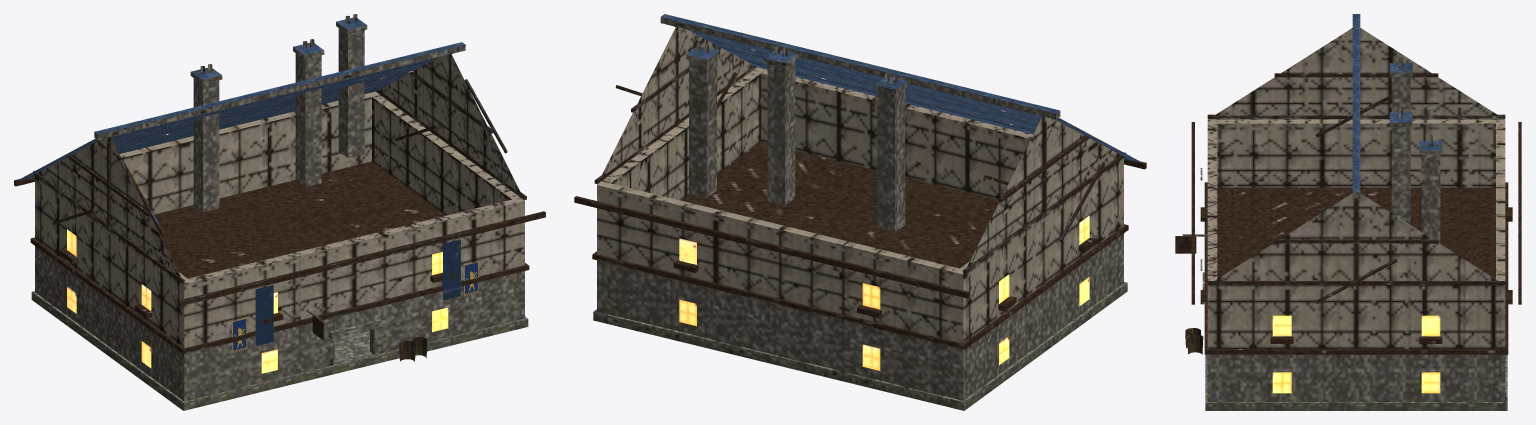
File: bld_inn_card_lod2.glb
The picture shows the model from 3 angles, left to right: view 1: azimuth 30°, elevation 25°; view 2: azimuth 150°, elevation 25°; view 3: azimuth 270°, elevation 25°; orthographic projection. The views are drawn at different scales.
Parts seen in each view (by area): view 1: inn_card; view 2: inn_card; view 3: inn_card.
Boxes of the visible parts, box(x1,y1,x2,y2) form: inn_card: box(14, 14, 545, 410); inn_card: box(574, 14, 1146, 410); inn_card: box(1175, 14, 1521, 410).
Size of the model in its own units: 38.76 by 21.77 by 28.19.
Materials: 1 (1 with a texture image).
